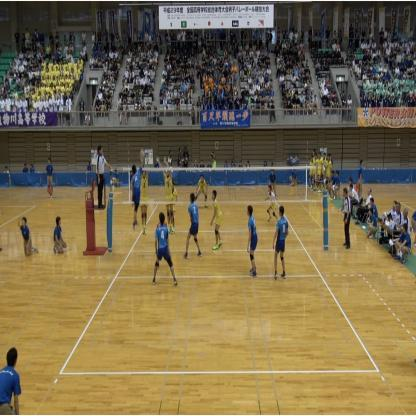spike: (128, 148, 146, 232)
